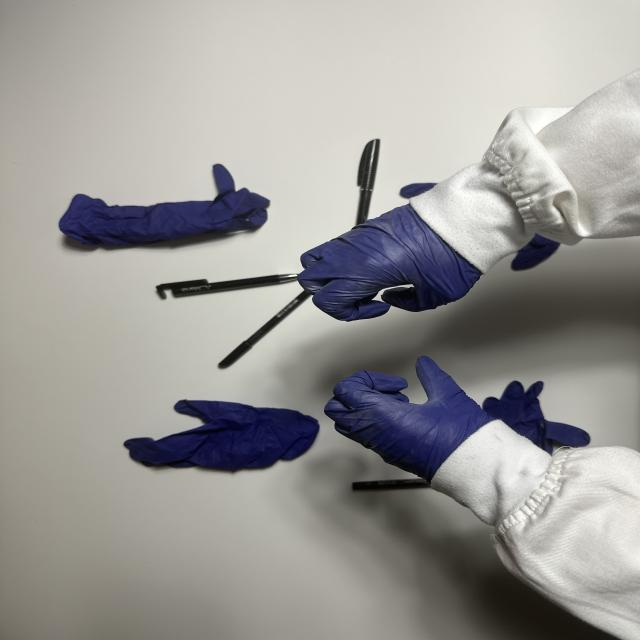gloves_contaminated: (300, 205, 480, 321), (327, 357, 490, 481)
